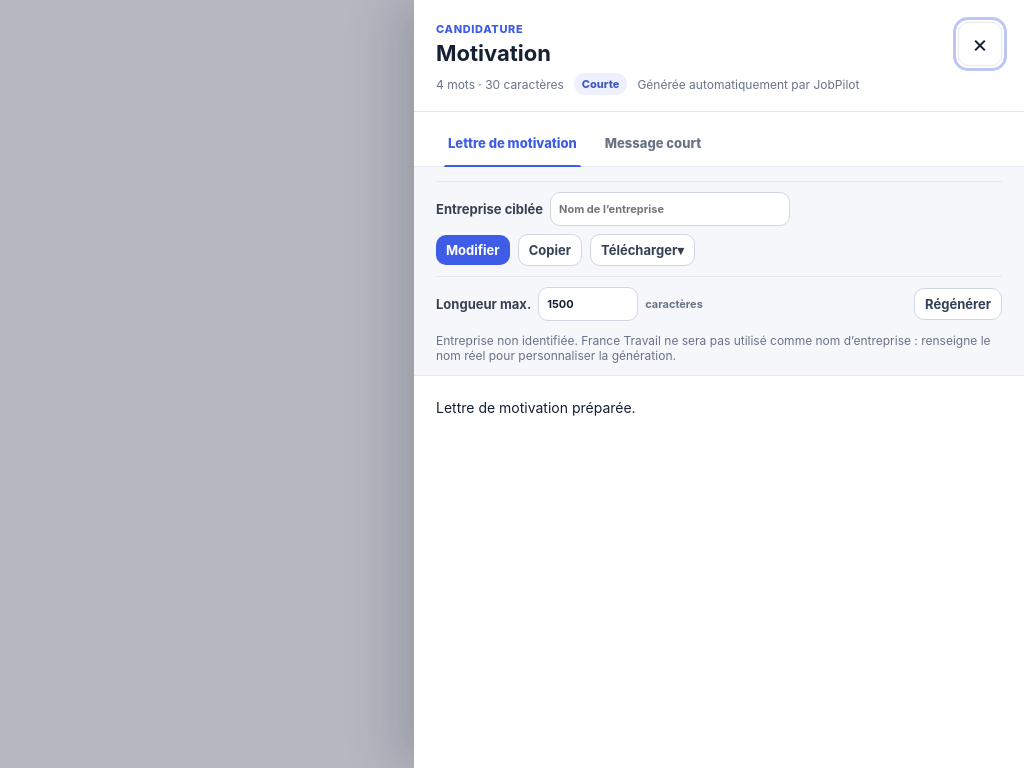
Test: CoverLetterDrawer privacy downloads › makes the explicit browser fallback visible instead of claiming privacy-clean success
Click the heading "Télécharger" at [642, 250], box [590, 234, 695, 266]
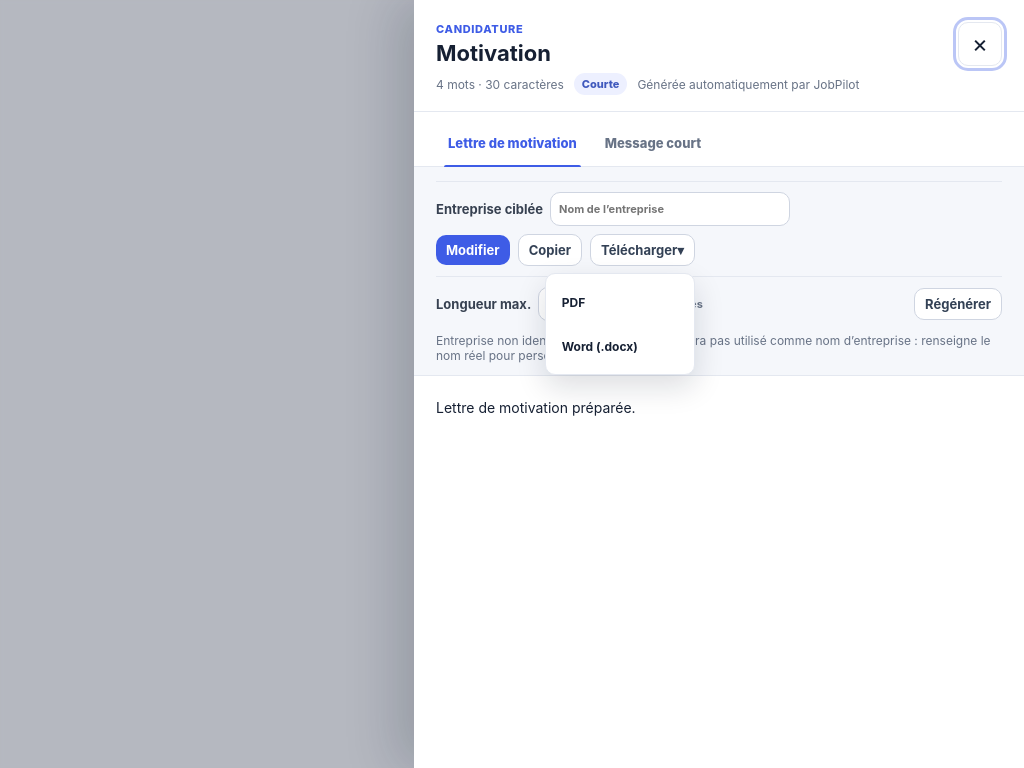
Click the button "PDF" at [620, 302], box [552, 280, 688, 324]
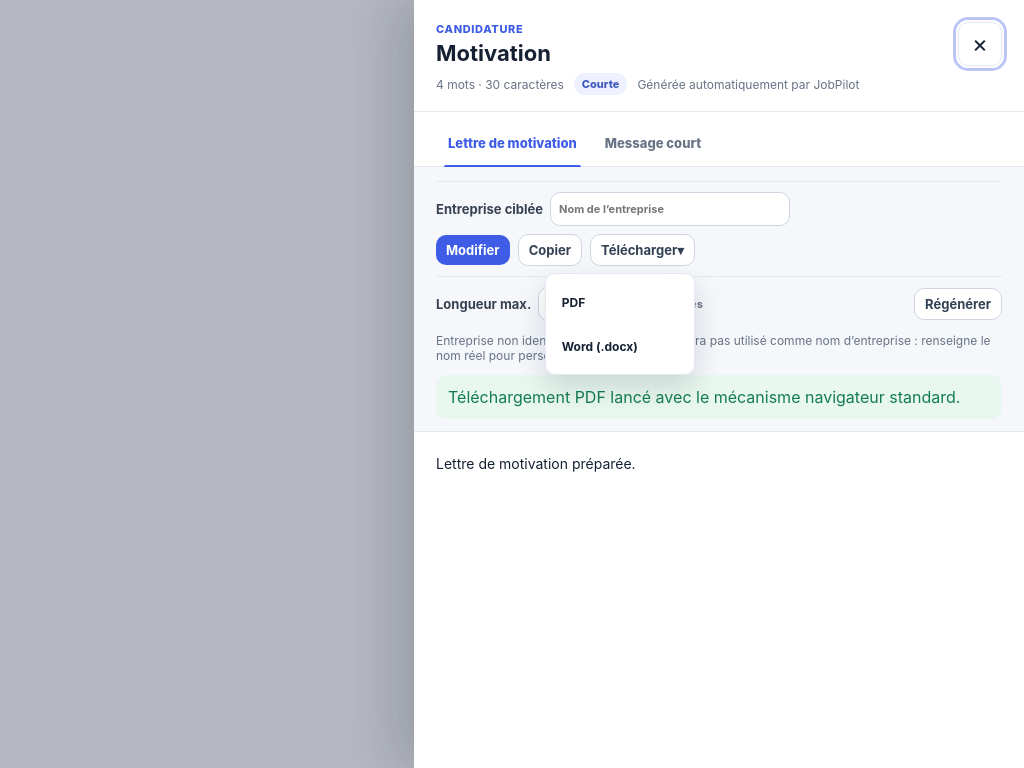
Expected: the text "Téléchargement PDF lancé avec le mécanisme navigateur standard." is shown, [436, 375, 1002, 419]
